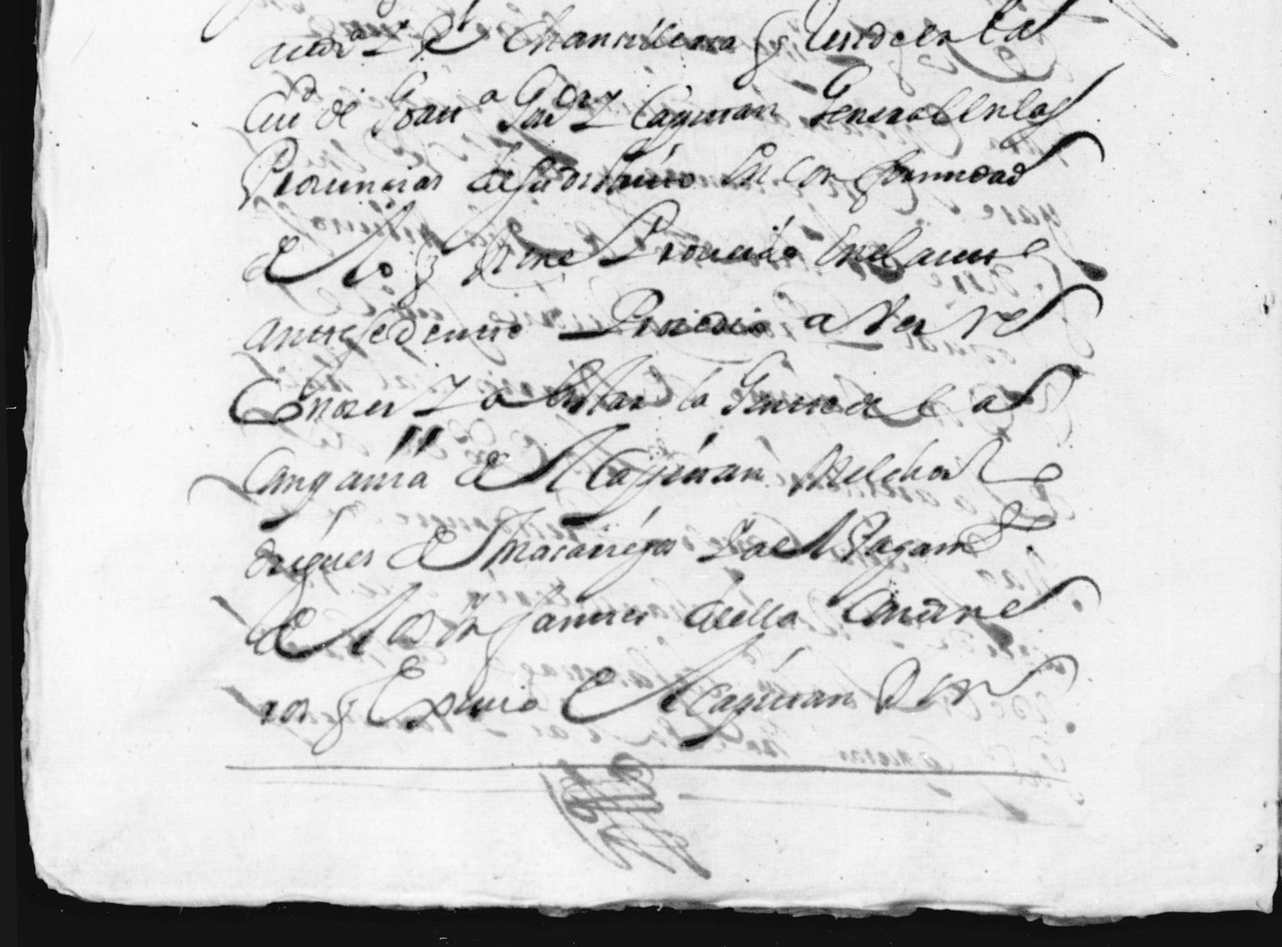lacandon: (842, 575, 1101, 626)
